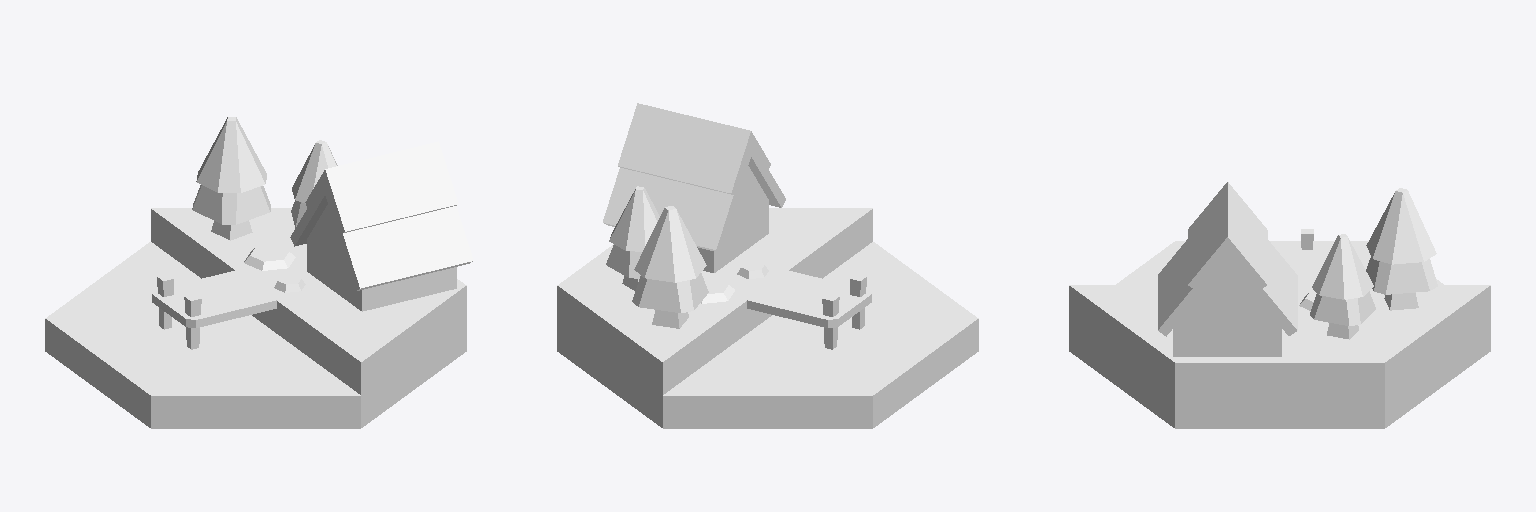
Rendered from building-dock.obj.
3 views of the same model, side by side, from view 1: azimuth 30°, elevation 25°; view 2: azimuth 150°, elevation 25°; view 3: azimuth 270°, elevation 25° (orthographic).
Visible parts, largest first — view 1: building-dock; view 2: building-dock; view 3: building-dock.
Part boxes in pixels (x1,y1,x2,y2): building-dock: (45,117,473,428); building-dock: (557,103,978,428); building-dock: (1069,182,1490,428).
Bounding box in the file's own units: 1 × 0.5781 × 1.15.